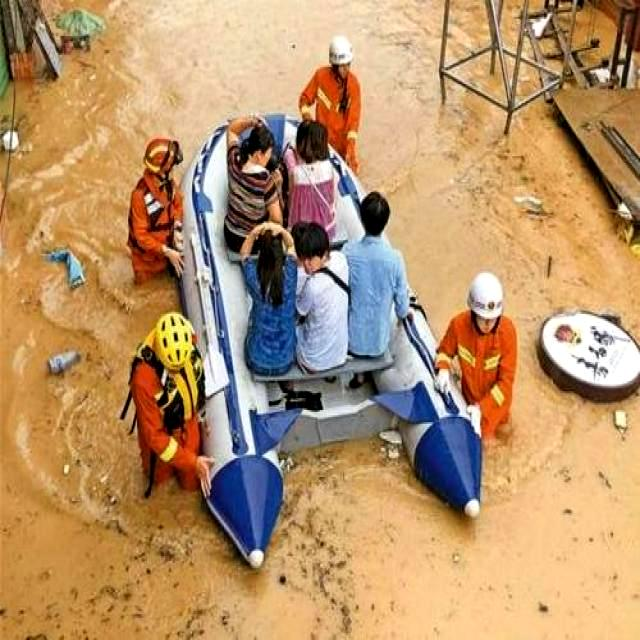civilian: (348, 187, 408, 368), (287, 224, 352, 386), (244, 217, 298, 386), (227, 120, 286, 232), (292, 120, 350, 232)
rescuer: (124, 306, 222, 498), (432, 261, 524, 434), (117, 131, 192, 287), (287, 34, 363, 186)
